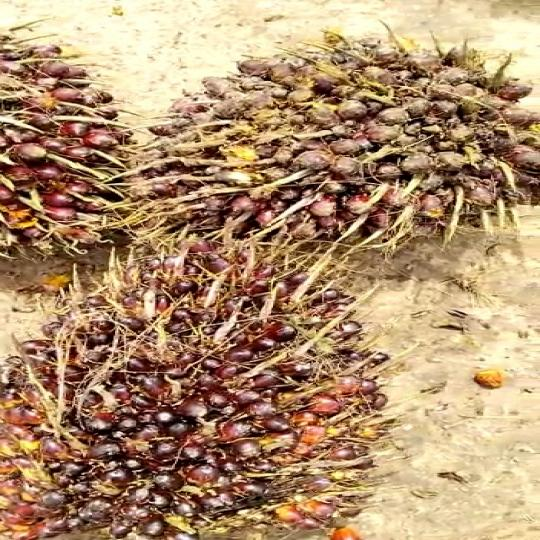kurang masak: (0, 260, 463, 540), (130, 21, 540, 275)
